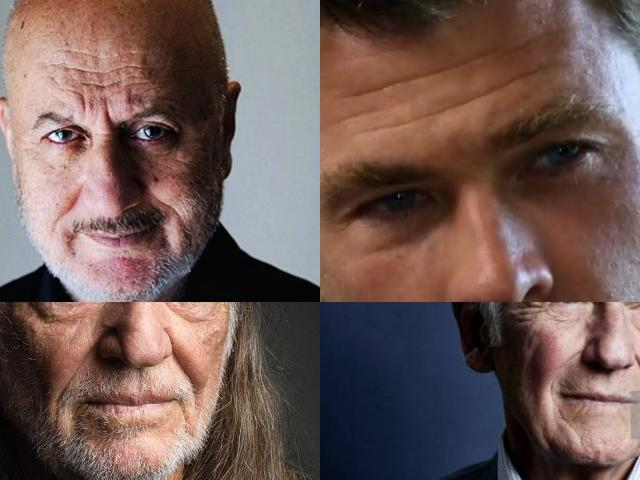chin: (551, 406, 577, 432)
crows_feet: (522, 302, 552, 318)
forehead: (348, 60, 502, 94), (412, 94, 486, 122), (334, 102, 378, 123), (504, 62, 542, 86), (367, 118, 407, 138), (52, 58, 90, 76), (76, 76, 118, 92), (114, 58, 150, 74), (114, 46, 150, 61), (58, 46, 96, 60), (78, 90, 88, 110)
frown_line: (100, 104, 116, 128)
gummy_smile: (70, 342, 100, 386), (166, 347, 198, 383), (152, 192, 182, 216), (60, 184, 80, 216), (558, 344, 586, 366), (632, 355, 640, 389)
sad_smile: (546, 378, 558, 396)
